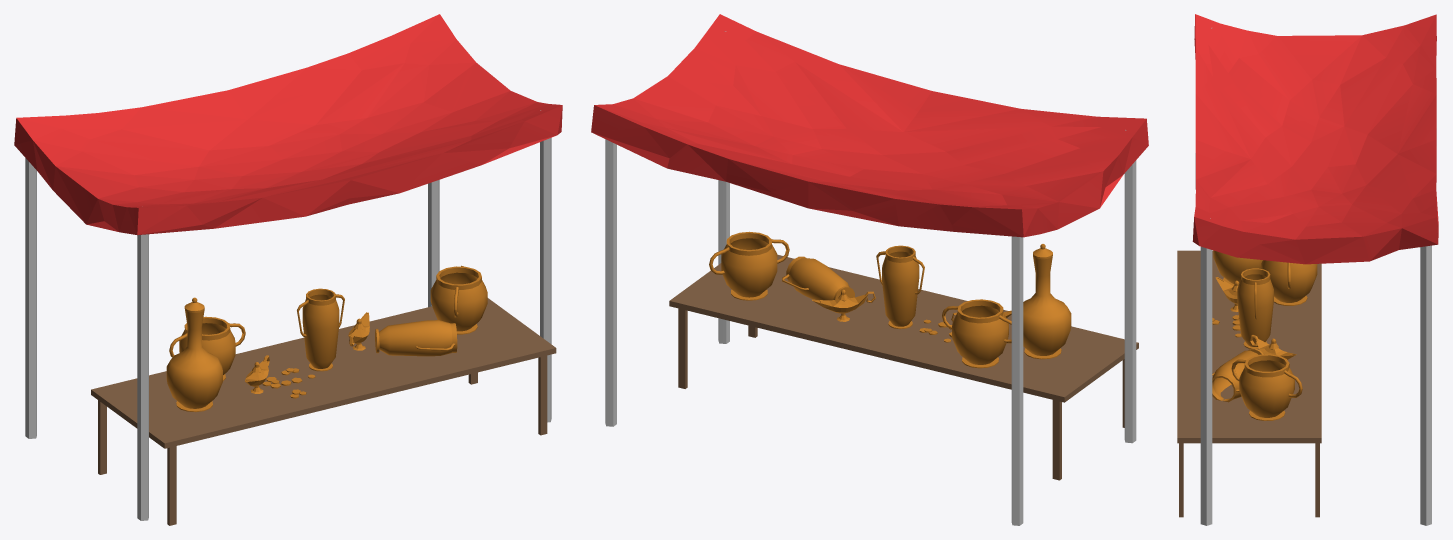
The model's file is SM_marketstand_03.fbx.
3 renders of one model, left to right at view 1: azimuth 30°, elevation 25°; view 2: azimuth 150°, elevation 25°; view 3: azimuth 270°, elevation 25°, orthographic. The views are drawn at different scales.
Visible parts, largest first — view 1: Object121; view 2: Object121; view 3: Object121.
Boxes of the visible parts, x1,y1,x2,y2 form: Object121: (14, 14, 562, 525); Object121: (591, 14, 1148, 525); Object121: (1177, 14, 1438, 525).
Size of the model in its own units: 159 by 85.65 by 113.
